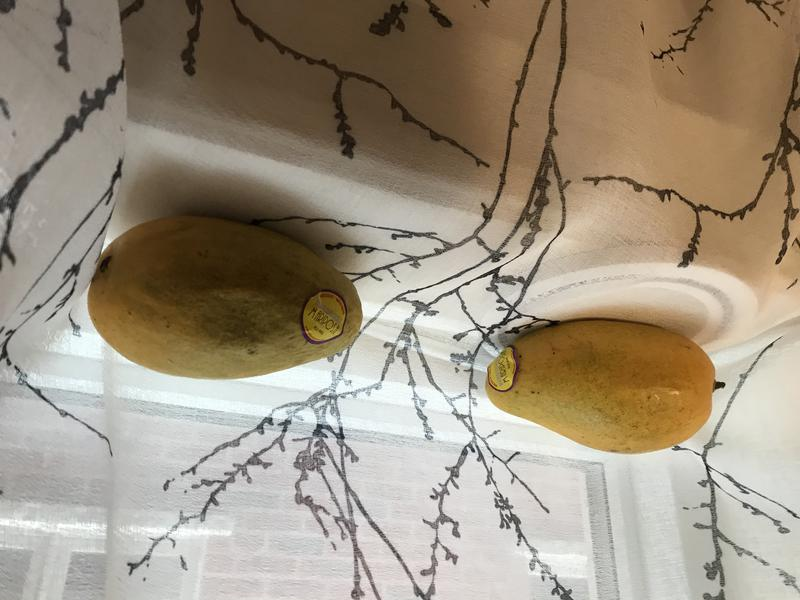mango: (80, 212, 369, 387), (482, 304, 736, 460)
